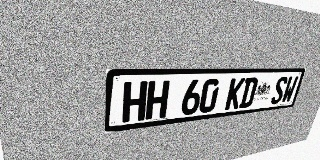0: (198, 79, 220, 113)
6: (180, 79, 204, 116)
D: (238, 77, 259, 108)
H: (122, 81, 148, 123), (145, 80, 170, 120)
K: (224, 78, 245, 110)
S: (270, 76, 289, 105)
W: (280, 76, 299, 103)
